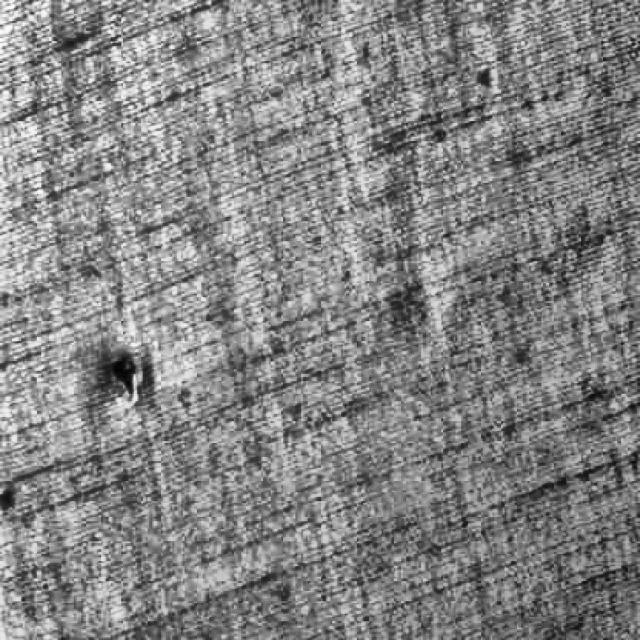objects: (96, 342, 159, 413)
